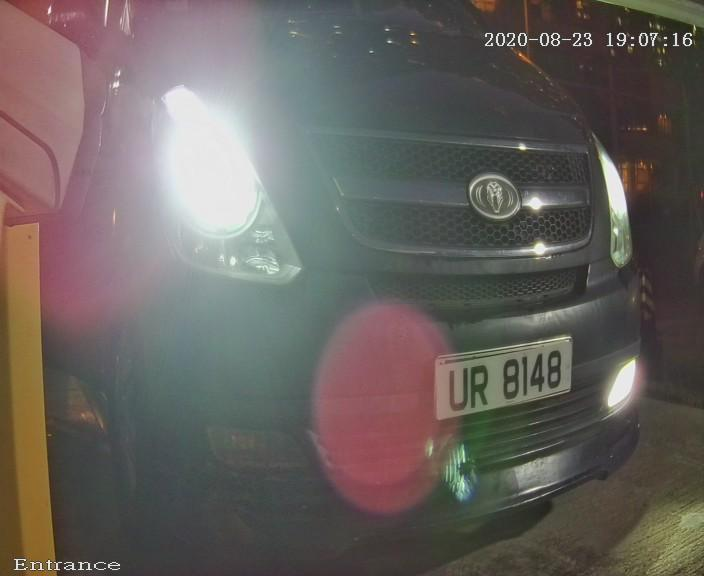License Plate: (401, 308, 601, 450)
